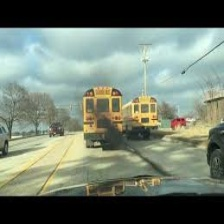smoke: (98, 121, 123, 147)
